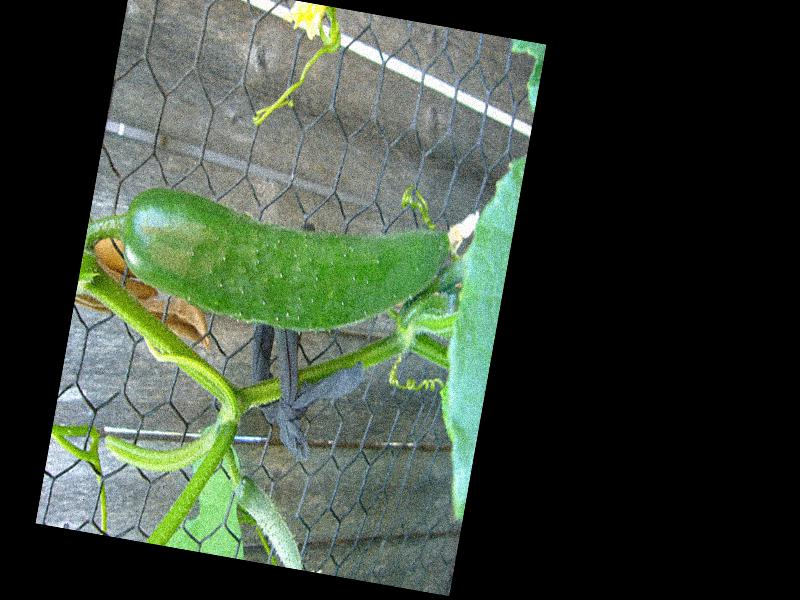Cucumber: (111, 175, 449, 356)
